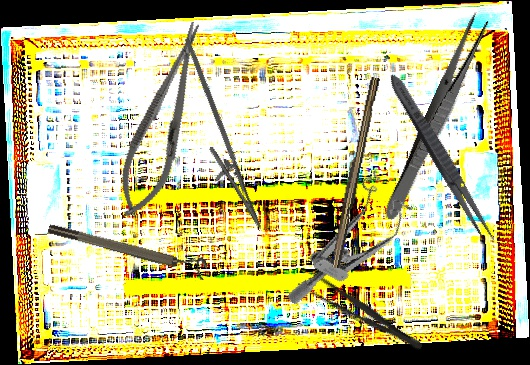Dressing Forceps: (380, 10, 494, 225), (382, 69, 501, 248), (295, 266, 428, 358)
Fixation Ring: (46, 214, 210, 281)
Needle Holder: (149, 37, 284, 236), (106, 15, 221, 226)
Scalpel Handle: (328, 75, 380, 270)
Speculum: (286, 162, 420, 332)
